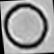no answer: (3, 3, 50, 47)
